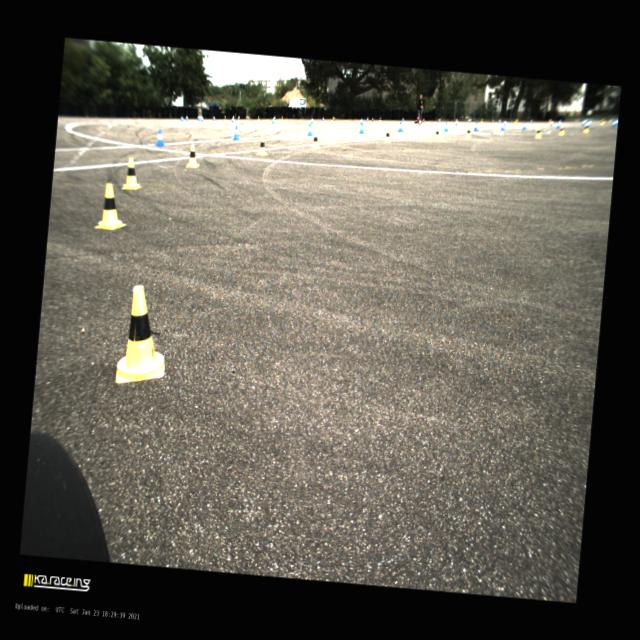blue_cone: (156, 128, 167, 146), (232, 124, 240, 140), (306, 123, 314, 136), (396, 120, 404, 132), (396, 121, 404, 132), (359, 122, 365, 134), (443, 121, 449, 131), (473, 121, 479, 131), (612, 117, 618, 127), (522, 121, 528, 129), (556, 118, 560, 129), (500, 121, 504, 130), (230, 114, 234, 122), (310, 116, 314, 124), (271, 116, 275, 123), (359, 117, 363, 124), (455, 118, 459, 125), (586, 120, 590, 127), (549, 120, 553, 126), (580, 119, 584, 125), (418, 118, 421, 125), (180, 115, 183, 121), (185, 114, 188, 120), (200, 116, 203, 121), (212, 116, 215, 120), (402, 116, 404, 122), (504, 120, 506, 126), (197, 115, 199, 120), (366, 116, 368, 121), (467, 118, 469, 123), (498, 118, 500, 123), (322, 116, 324, 120), (438, 118, 440, 122), (530, 119, 532, 122)
yellow_cone: (115, 283, 172, 387), (94, 182, 129, 230), (121, 156, 144, 190), (185, 143, 201, 168), (256, 135, 269, 155), (310, 130, 320, 148), (384, 126, 392, 142), (464, 124, 472, 139), (534, 126, 541, 138), (558, 124, 565, 136), (433, 128, 440, 140), (582, 123, 590, 133), (280, 115, 284, 123), (378, 116, 382, 124), (600, 118, 604, 125), (332, 117, 336, 123), (468, 118, 472, 124), (257, 115, 260, 122), (237, 115, 240, 121), (331, 116, 334, 122), (480, 118, 483, 124), (516, 118, 518, 125), (514, 118, 516, 124), (224, 115, 226, 120), (371, 117, 373, 122), (548, 118, 550, 123), (422, 118, 424, 122), (274, 116, 275, 121)
